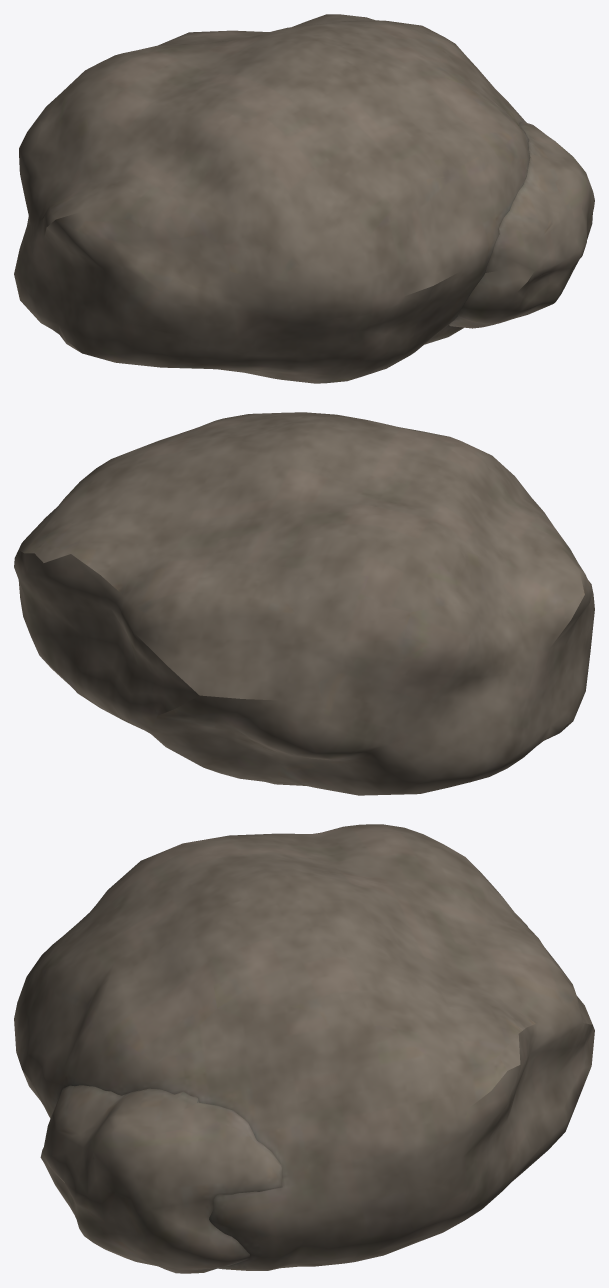
The model's file is rock_small.glb.
3 renders of one model, top to bottom at view 1: azimuth 30°, elevation 25°; view 2: azimuth 150°, elevation 25°; view 3: azimuth 270°, elevation 25°, orthographic. The views are drawn at different scales.
Parts seen in each view (by area): view 1: rock_small; view 2: rock_small; view 3: rock_small.
Boxes of the visible parts, x1=… form: rock_small: x1=14, y1=14, x2=594, y2=383; rock_small: x1=14, y1=412, x2=594, y2=795; rock_small: x1=14, y1=824, x2=594, y2=1273.
Bounding box in the file's own units: 1.49 × 0.9076 × 1.32.
1 material, 1 textured.
